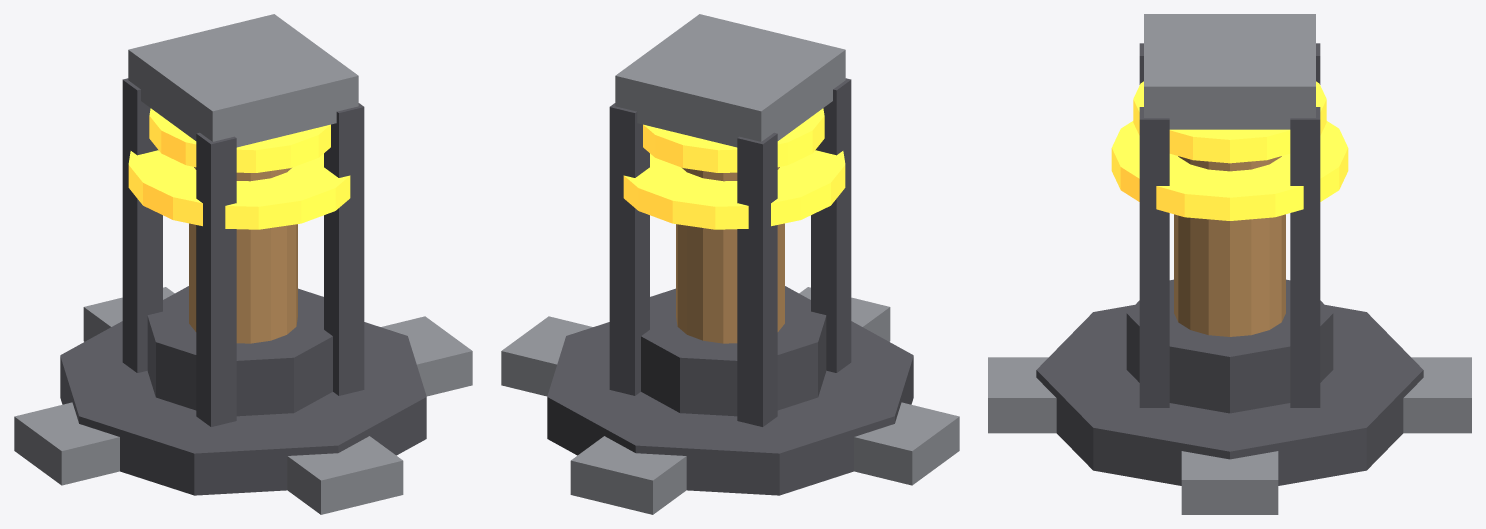
File: titanforge_purifier.glb
The picture shows the model from 3 angles, left to right: view 1: azimuth 30°, elevation 25°; view 2: azimuth 150°, elevation 25°; view 3: azimuth 270°, elevation 25°; orthographic projection.
Parts seen in each view (by area): view 1: Cylinder, Cube.008, Cylinder.002, Cube.004, Cylinder.003, Cube.005, Cylinder.001, Cube.006, Cube.003, Cube.002, Cylinder.004, Cube (+1 smaller); view 2: Cylinder, Cube.008, Cylinder.002, Cube.006, Cylinder.003, Cube.007, Cylinder.001, Cube.004, Cube.001, Cube.002, Cylinder.004, Cube (+1 smaller); view 3: Cylinder, Cube.008, Cylinder.001, Cylinder.002, Cylinder.003, Cube.005, Cube.007, Cube, Cube.001, Cube.003, Cylinder.004.
Boxes of the visible parts, left/top/right/bottom form: Cylinder: left=60, top=321, right=426, bottom=495; Cube.008: left=128, top=14, right=358, bottom=147; Cylinder.002: left=147, top=286, right=332, bottom=416; Cube.004: left=196, top=132, right=236, bottom=426; Cylinder.003: left=128, top=150, right=350, bottom=229; Cube.005: left=324, top=103, right=364, bottom=395; Cylinder.001: left=189, top=167, right=297, bottom=343; Cube.006: left=122, top=78, right=162, bottom=372; Cube.003: left=287, top=436, right=403, bottom=514; Cube.002: left=14, top=402, right=119, bottom=485; Cylinder.004: left=149, top=108, right=330, bottom=172; Cube: left=381, top=316, right=472, bottom=396; Cylinder: left=547, top=321, right=913, bottom=495; Cube.008: left=615, top=14, right=845, bottom=147; Cylinder.002: left=641, top=286, right=826, bottom=416; Cube.006: left=737, top=132, right=777, bottom=426; Cylinder.003: left=623, top=150, right=845, bottom=229; Cube.007: left=609, top=103, right=649, bottom=395; Cylinder.001: left=676, top=167, right=784, bottom=343; Cube.004: left=811, top=78, right=851, bottom=372; Cube.001: left=570, top=436, right=686, bottom=514; Cube.002: left=854, top=402, right=959, bottom=485; Cylinder.004: left=643, top=108, right=824, bottom=172; Cube: left=501, top=316, right=592, bottom=396; Cylinder: left=1036, top=305, right=1423, bottom=485; Cube.008: left=1144, top=14, right=1315, bottom=129; Cylinder.001: left=1174, top=156, right=1285, bottom=336; Cylinder.002: left=1126, top=279, right=1333, bottom=413; Cylinder.003: left=1111, top=121, right=1348, bottom=220; Cube.005: left=1139, top=107, right=1169, bottom=407; Cube.007: left=1290, top=107, right=1320, bottom=407; Cube: left=1181, top=451, right=1278, bottom=514; Cube.001: left=1403, top=357, right=1471, bottom=433; Cube.003: left=988, top=357, right=1056, bottom=433; Cylinder.004: left=1133, top=81, right=1326, bottom=163.
Bounding box in the file's own units: 2.25 × 1.86 × 2.25.
